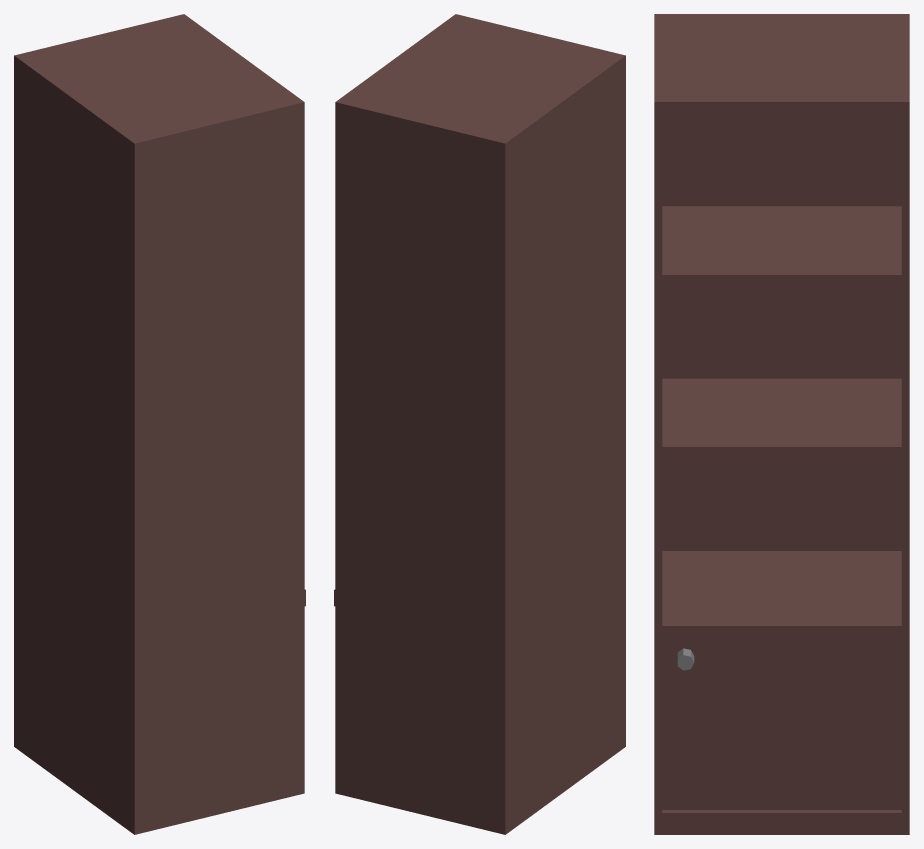
The model's file is regal.fbx.
The picture shows the model from 3 angles, left to right: view 1: azimuth 30°, elevation 25°; view 2: azimuth 150°, elevation 25°; view 3: azimuth 270°, elevation 25°; orthographic projection. The views are drawn at different scales.
Parts seen in each view (by area): view 1: Cube; view 2: Cube; view 3: Cube.
Boxes of the visible parts, x1=… form: Cube: x1=14, y1=14, x2=305, y2=834; Cube: x1=334, y1=14, x2=625, y2=834; Cube: x1=654, y1=14, x2=909, y2=834.
Bounding box in the file's own units: 53.85 × 200 × 63.15.
